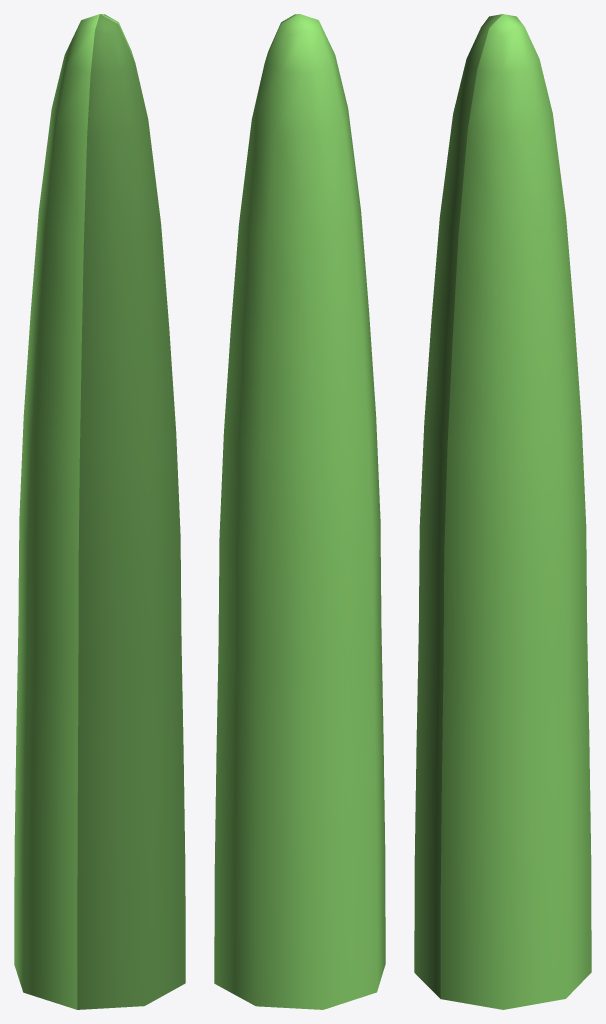
File: StartTentacle_YUP.fbx
3 renders of one model, left to right at view 1: azimuth 30°, elevation 25°; view 2: azimuth 150°, elevation 25°; view 3: azimuth 270°, elevation 25°, orthographic.
Visible parts, largest first — view 1: Tentacle.005; view 2: Tentacle.005; view 3: Tentacle.005.
Part boxes in pixels (x1,y1,x2,y2): Tentacle.005: [14, 14, 185, 1009]; Tentacle.005: [214, 14, 385, 1009]; Tentacle.005: [414, 14, 591, 1009].
Size of the model in its own units: 0.5519 by 3.29 by 0.5519.
